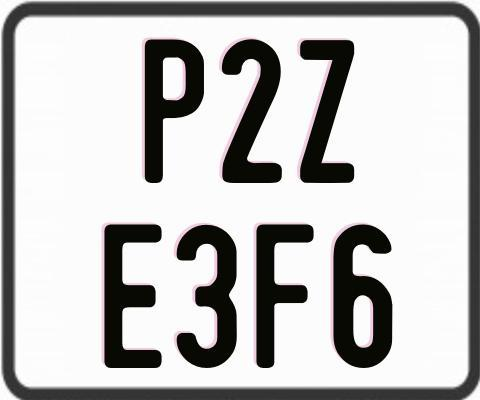2: (222, 36, 283, 181)
3: (174, 222, 239, 366)
6: (333, 222, 397, 366)
E: (104, 222, 167, 367)
F: (256, 223, 317, 369)
P: (142, 38, 201, 184)
Z: (298, 40, 354, 189)
